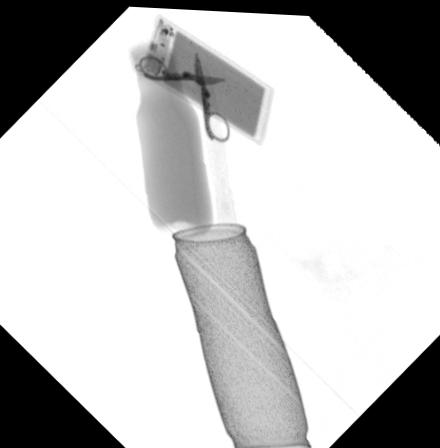Powerbank: (132, 13, 275, 143)
Scissors: (138, 47, 229, 142)
